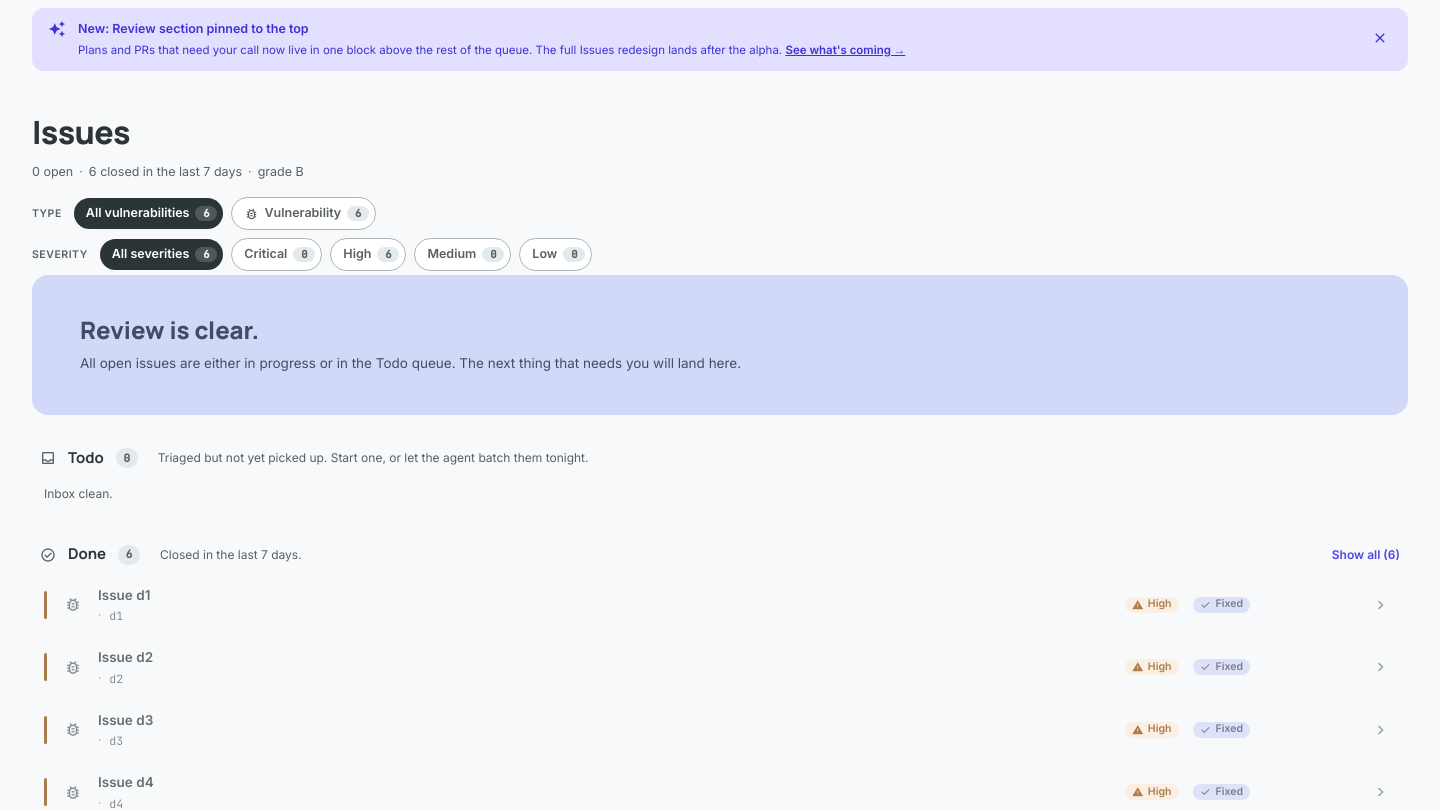
Test case: IssuesPage › Done section shows at most 4 rows by default with a Show all toggle
Expected: the text "Issue d1" is shown, [98,585,150,605]
Expected: the text "Issue d4" is shown, [98,772,154,793]
Click the button "Show all (6)".
click(1366, 555)  # box [1332,546,1400,564]
(page scrolled)
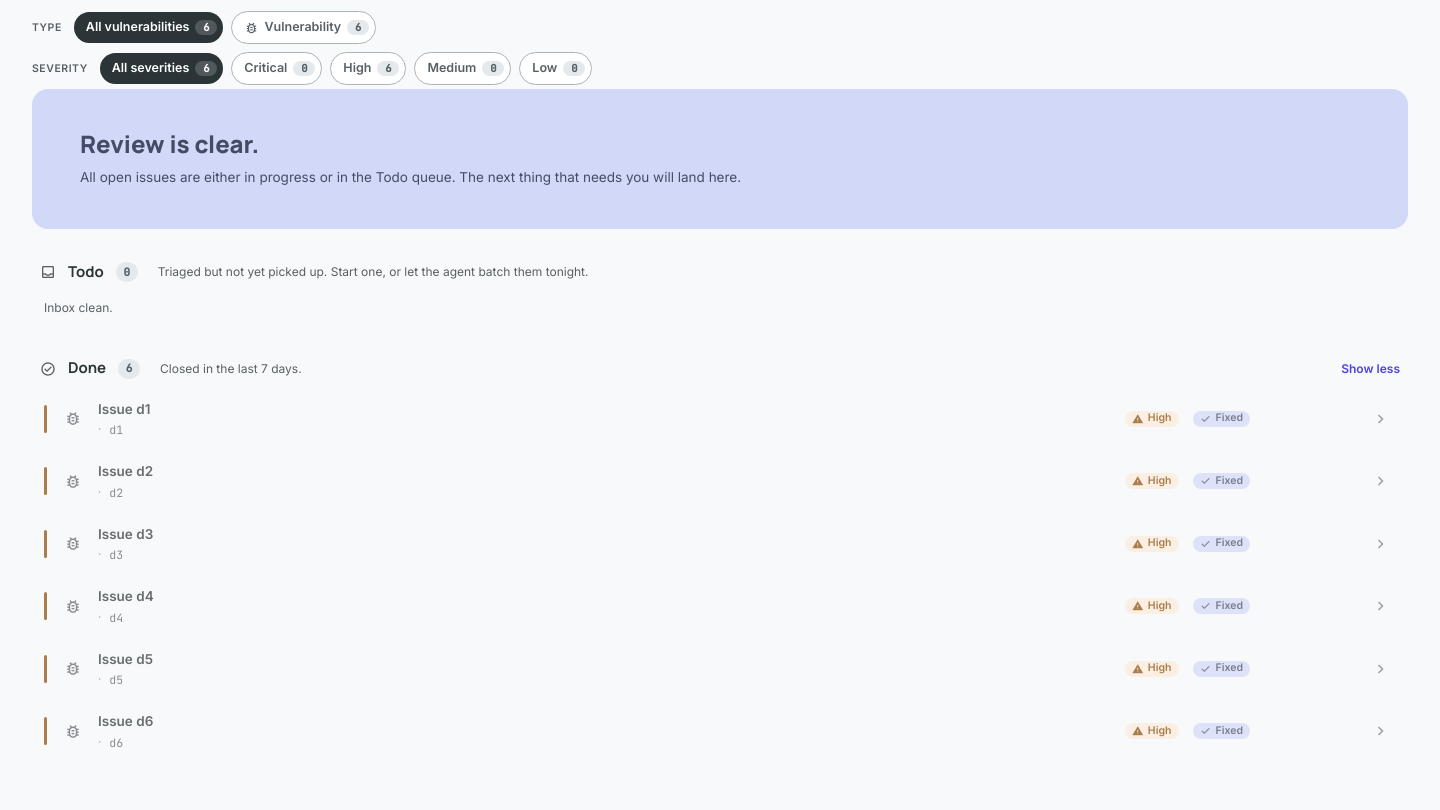
Expected: the text "Issue d5" is shown, [98,649,153,669]
